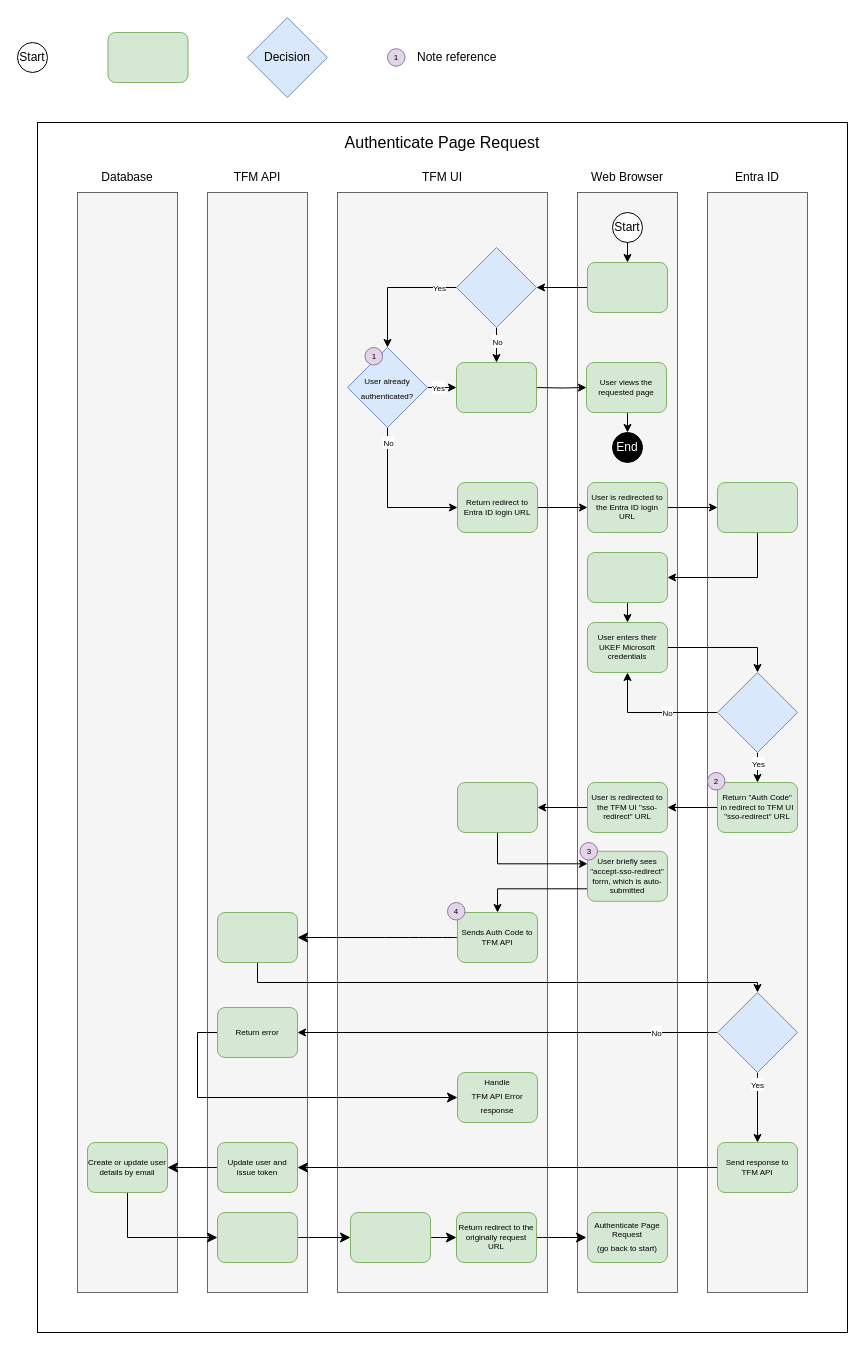
Some shapes in this 865 by 1350 pixel diagram are drawn without their labels. The centre of each missing label's shape, as x and y in pixels:
Action: point 147,57
Auth Code is valid?: point 757,1032
Create token: point 257,1237
Credentials are valid?: point 757,712
Pag e requires authentication?: point 496,287
Render Page: point 496,387
Return "accept-sso-redirect" form page: point 497,807
Return Entra ID login page: point 757,507
Save token and user details to session: point 390,1237
Use Auth Code to validate Auth Code (we discard the Access Token): point 257,937
User navigates to a TFM page: point 627,287
User views the Entra ID login page: point 627,577
